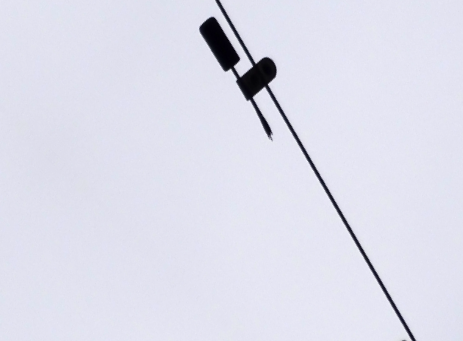damper_defect: (196, 13, 280, 143)
